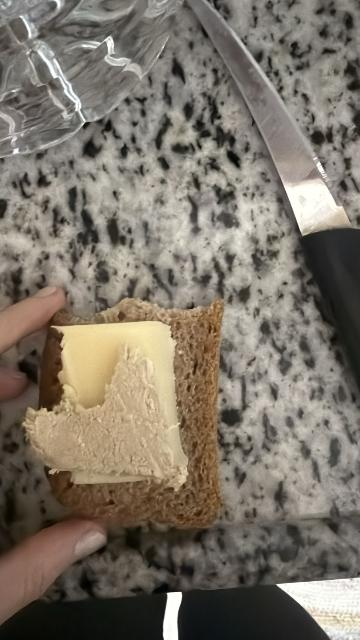Metal: (184, 0, 354, 230)
Organik: (39, 301, 220, 535), (56, 329, 184, 482)
Plastik: (297, 235, 360, 409)
